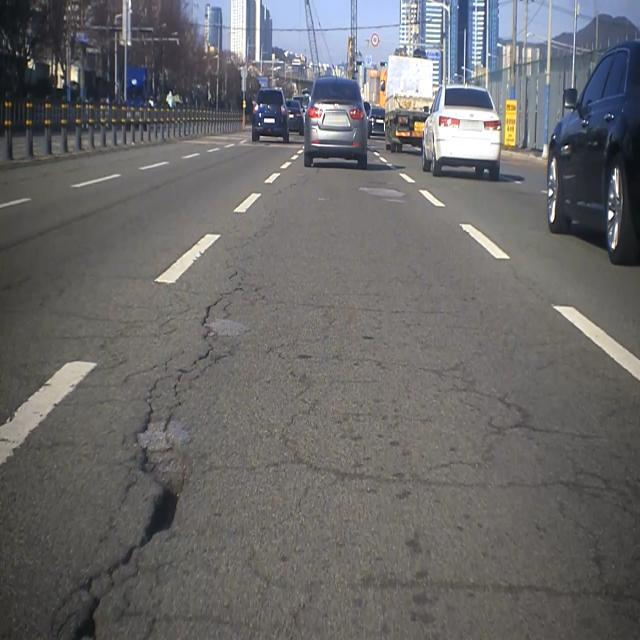Buraco: (130, 475, 193, 552), (62, 592, 106, 640)
